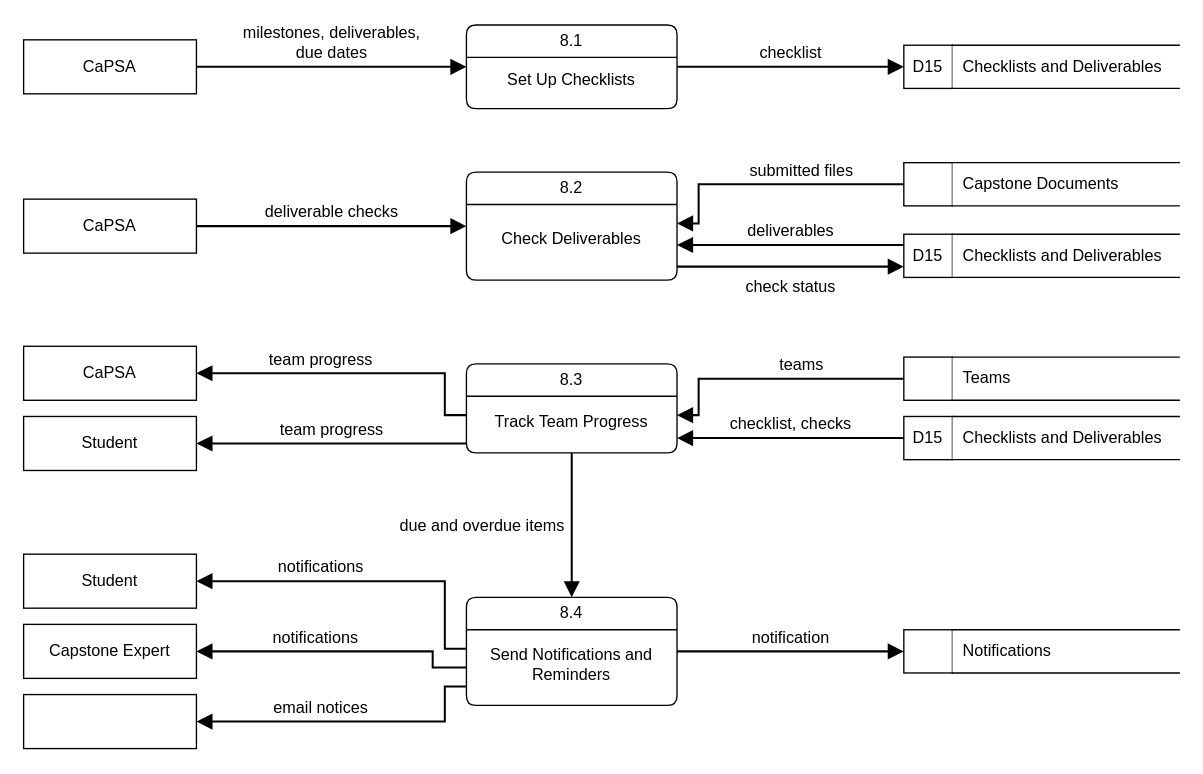
This 1203x774 diagram has some shape labels left out. The box of each missing label's shape, as (x1, y1, x2, y2) in pixels:
D16: (902, 628, 952, 673)
D3: (902, 356, 952, 400)
D8: (902, 161, 952, 206)
Gmail SMTP: (22, 693, 196, 749)
